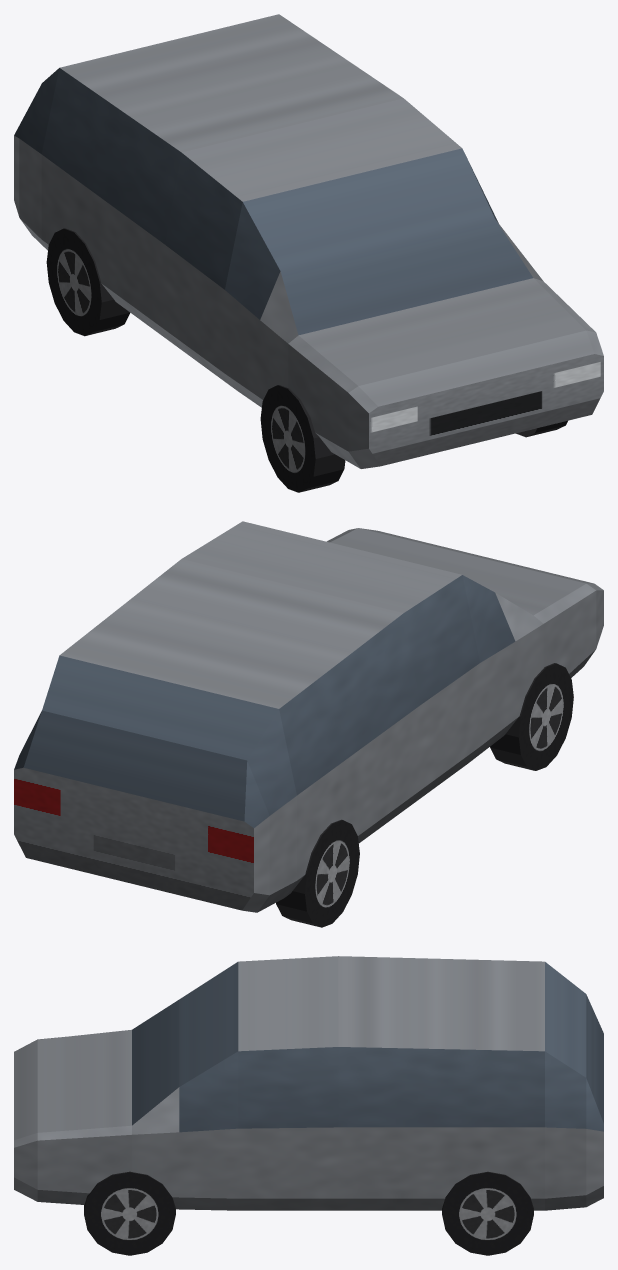
Rendered from SM_Morin_Auto_B_Col.fbx.
3 renders of one model, top to bottom at view 1: azimuth 30°, elevation 25°; view 2: azimuth 150°, elevation 25°; view 3: azimuth 270°, elevation 25°, orthographic. The views are drawn at different scales.
Parts seen in each view (by area): view 1: SM_Morin_Auto_B_Col; view 2: SM_Morin_Auto_B_Col; view 3: SM_Morin_Auto_B_Col.
Part boxes in pixels (bbox=[...]): SM_Morin_Auto_B_Col: bbox=[14, 14, 603, 492]; SM_Morin_Auto_B_Col: bbox=[14, 521, 603, 927]; SM_Morin_Auto_B_Col: bbox=[14, 956, 603, 1255].
Size of what is drawn, in the model's own units: 184 by 435 by 164.
Materials: 1 (1 with a texture image).
